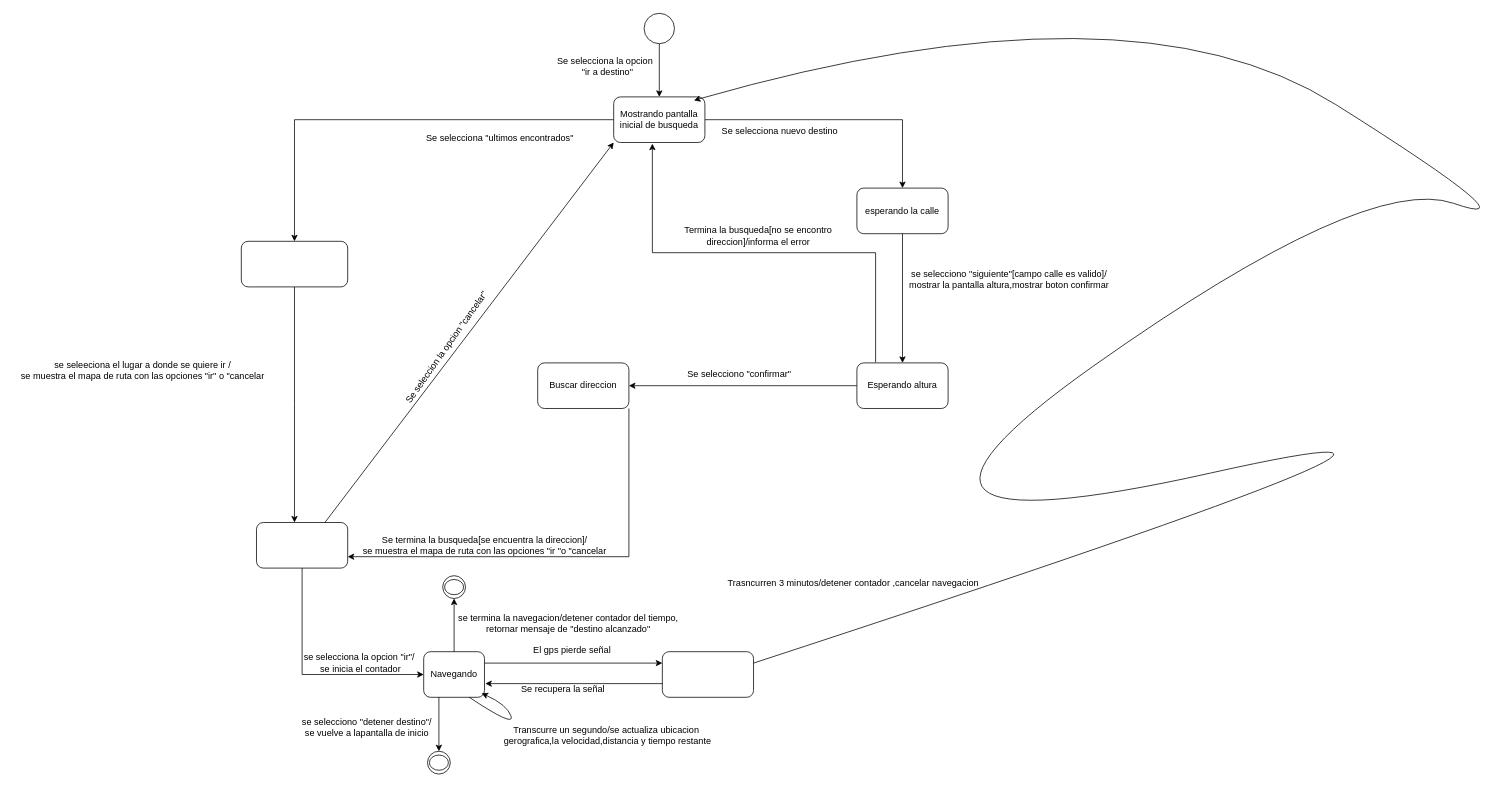
Some shapes in this 1493 by 787 pixel diagram are drawn without their labels. Here are the shapes that lost their labels. From the top down, the centre of each, then its label:
pixel 294 264: Mostrando los ultimos 5 lugares buscados
pixel 302 545: Esperando seleccion
pixel 708 674: Esperando señal
